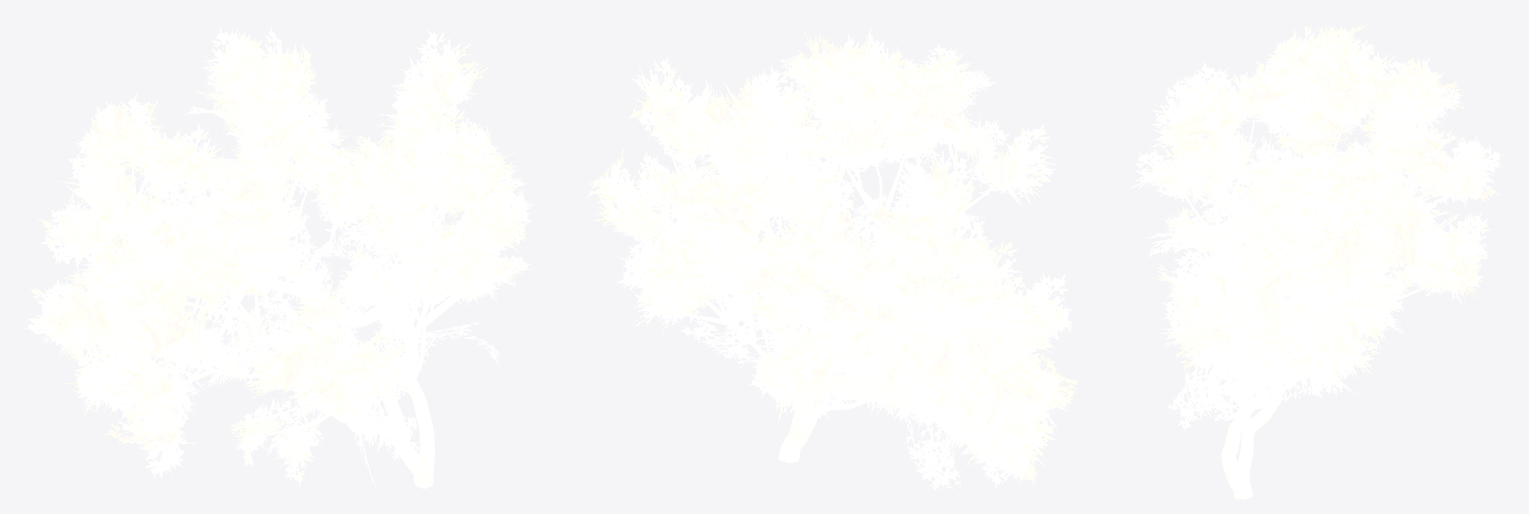
3 views of the same model, side by side, from view 1: azimuth 30°, elevation 25°; view 2: azimuth 150°, elevation 25°; view 3: azimuth 270°, elevation 25° (orthographic). The views are drawn at different scales.
Parts seen in each view (by area): view 1: SM_Gorse_01_LOD0; view 2: SM_Gorse_01_LOD0; view 3: SM_Gorse_01_LOD0.
Boxes of the visible parts, x1,y1,x2,y2 form: SM_Gorse_01_LOD0: [23, 26, 534, 490]; SM_Gorse_01_LOD0: [585, 26, 1079, 492]; SM_Gorse_01_LOD0: [1129, 24, 1505, 499].
Bounding box in the file's own units: 3.53 × 3.27 × 2.72.
Materials: 1 (1 with a texture image).
